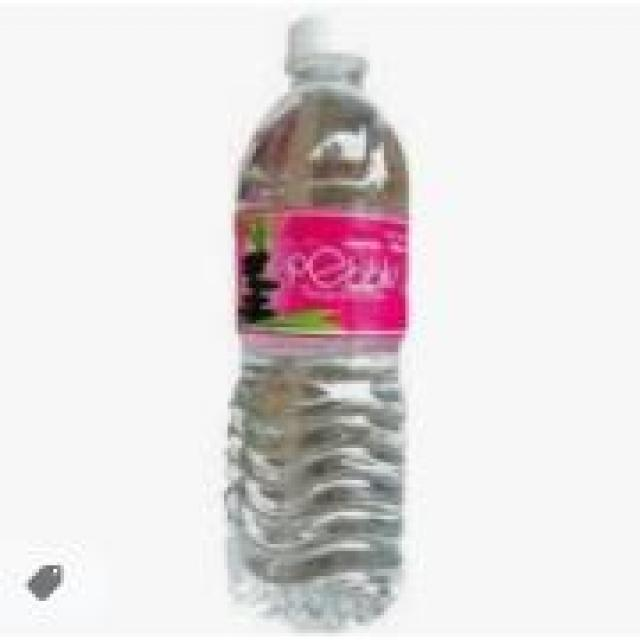bottle: (221, 13, 410, 640)
